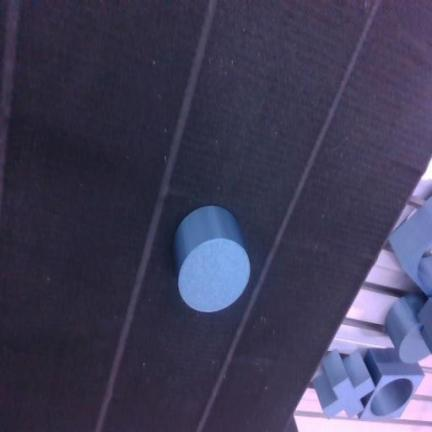cylinder: (174, 205, 250, 311)
